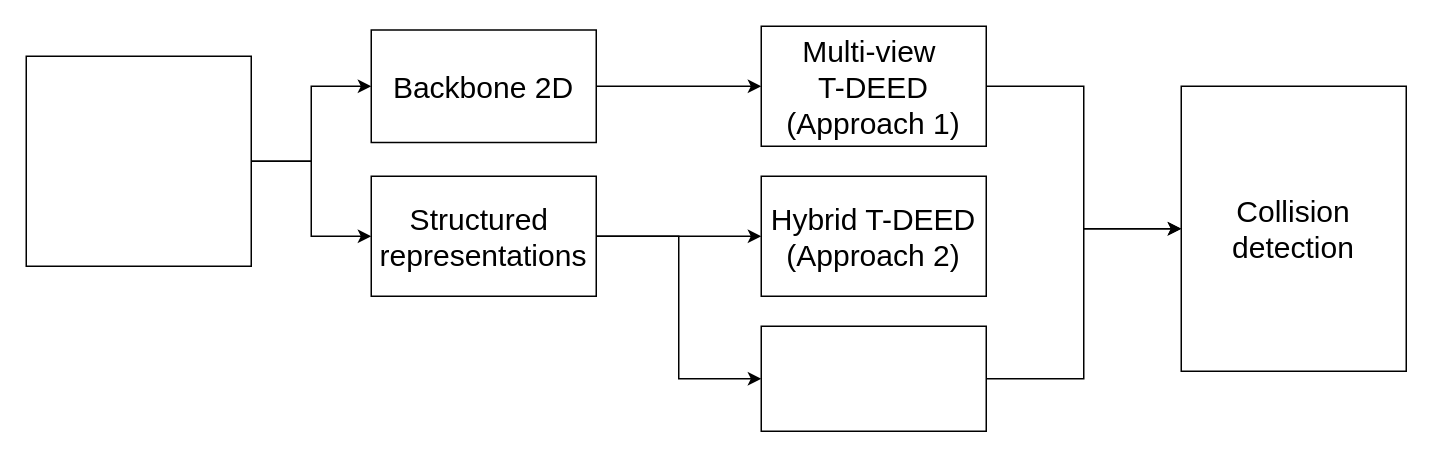
This 1433x458 diagram has some shape labels left out. The shapes that lost their labels are listed below. From the top down, each one's centre as x and y in pixels, then its label:
At point 138,160: "Multi-view frames".
At point 873,378: "Heuristic rules (Approach 3)".
